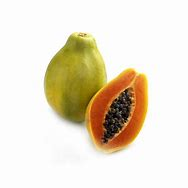papaya: (45, 32, 108, 123), (85, 67, 149, 154)
